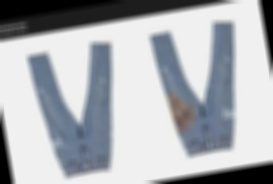earth: (170, 96, 193, 125)
